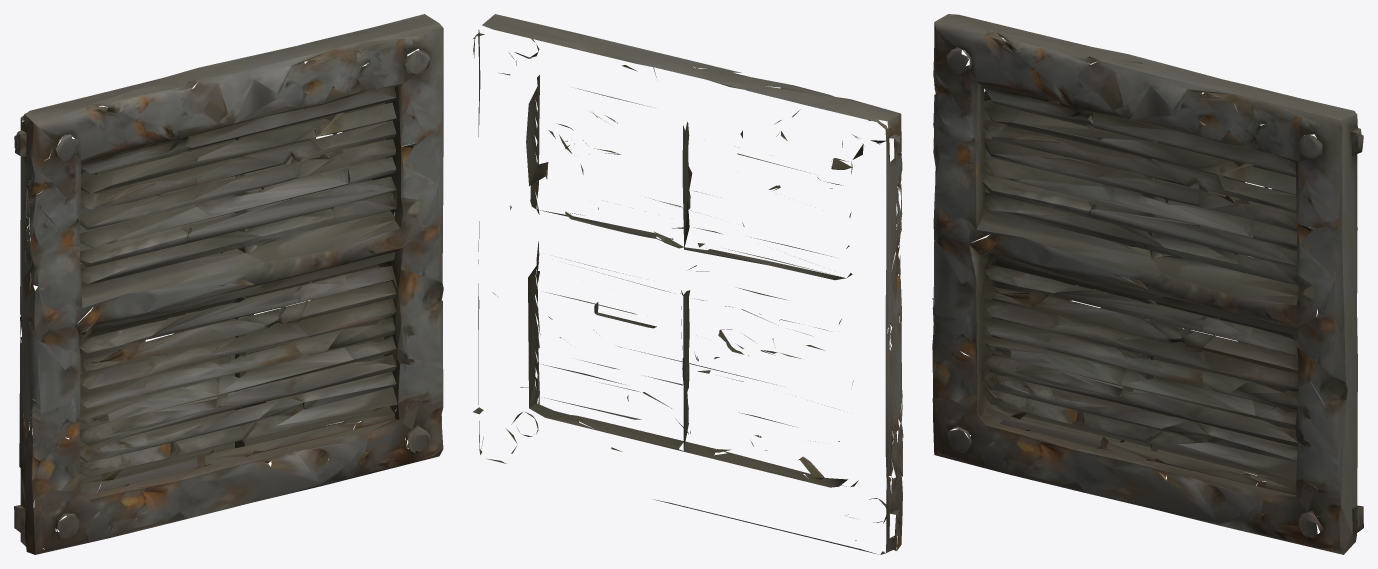
File: decor_vent_idle.glb
3 renders of one model, left to right at view 1: azimuth 30°, elevation 25°; view 2: azimuth 150°, elevation 25°; view 3: azimuth 330°, elevation 25°, orthographic.
Parts seen in each view (by area): view 1: tripo_node_e83acf59-5c95-47b1-b1ac-4f28a4882fd3; view 2: tripo_node_e83acf59-5c95-47b1-b1ac-4f28a4882fd3; view 3: tripo_node_e83acf59-5c95-47b1-b1ac-4f28a4882fd3.
Part boxes in pixels (x1=…): tripo_node_e83acf59-5c95-47b1-b1ac-4f28a4882fd3: x1=14, y1=14, x2=443, y2=554; tripo_node_e83acf59-5c95-47b1-b1ac-4f28a4882fd3: x1=473, y1=14, x2=903, y2=554; tripo_node_e83acf59-5c95-47b1-b1ac-4f28a4882fd3: x1=932, y1=14, x2=1363, y2=554.
Size of the model in its own units: 0.5088 by 0.4996 by 0.051.
Materials: 1 (1 with a texture image).
